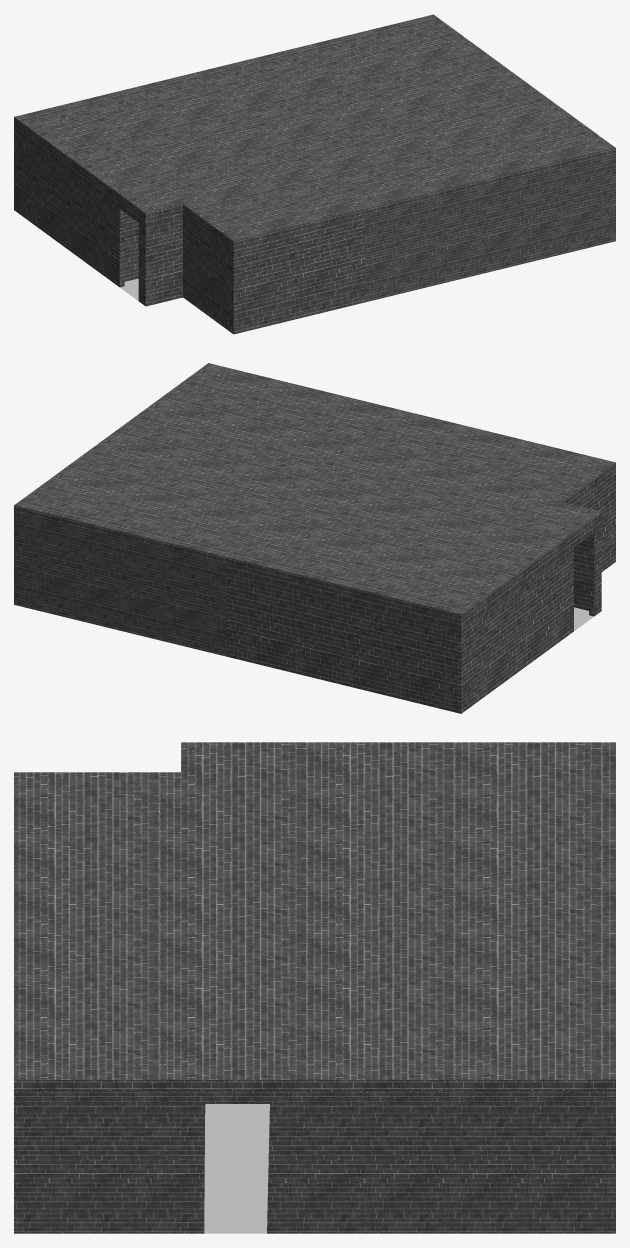
Rendered from House.fbx.
3 views of the same model, one above another, from view 1: azimuth 30°, elevation 25°; view 2: azimuth 150°, elevation 25°; view 3: azimuth 270°, elevation 25° (orthographic). The views are drawn at different scales.
Visible parts, largest first — view 1: Roof, Hall, Bathroom, Bedroom, Corridor; view 2: Roof, Bedroom, Hall, Corridor, Bathroom; view 3: Roof, Hall.
Part boxes in pixels (box(x1,y1,x2,y2)): Roof: box(14, 14, 615, 247); Hall: box(365, 154, 615, 302); Bathroom: box(183, 211, 364, 334); Bedroom: box(14, 124, 138, 283); Corridor: box(115, 198, 182, 306); Roof: box(14, 363, 615, 621); Bedroom: box(227, 543, 569, 713); Hall: box(14, 512, 226, 656); Corridor: box(569, 519, 601, 634); Bathroom: box(569, 470, 615, 571); Roof: box(14, 742, 615, 1090); Hall: box(14, 1091, 615, 1233).
Bounding box in the file's own units: 2536 × 538 × 1910.
